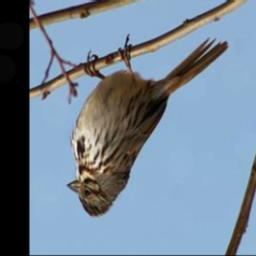Sparrow: (65, 34, 230, 218)
